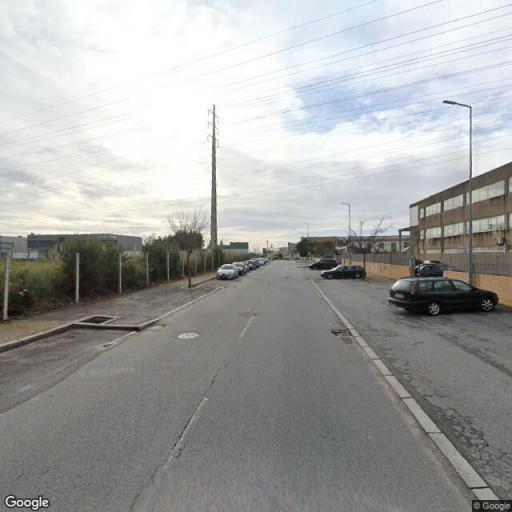mono_9: (207, 102, 222, 268)
